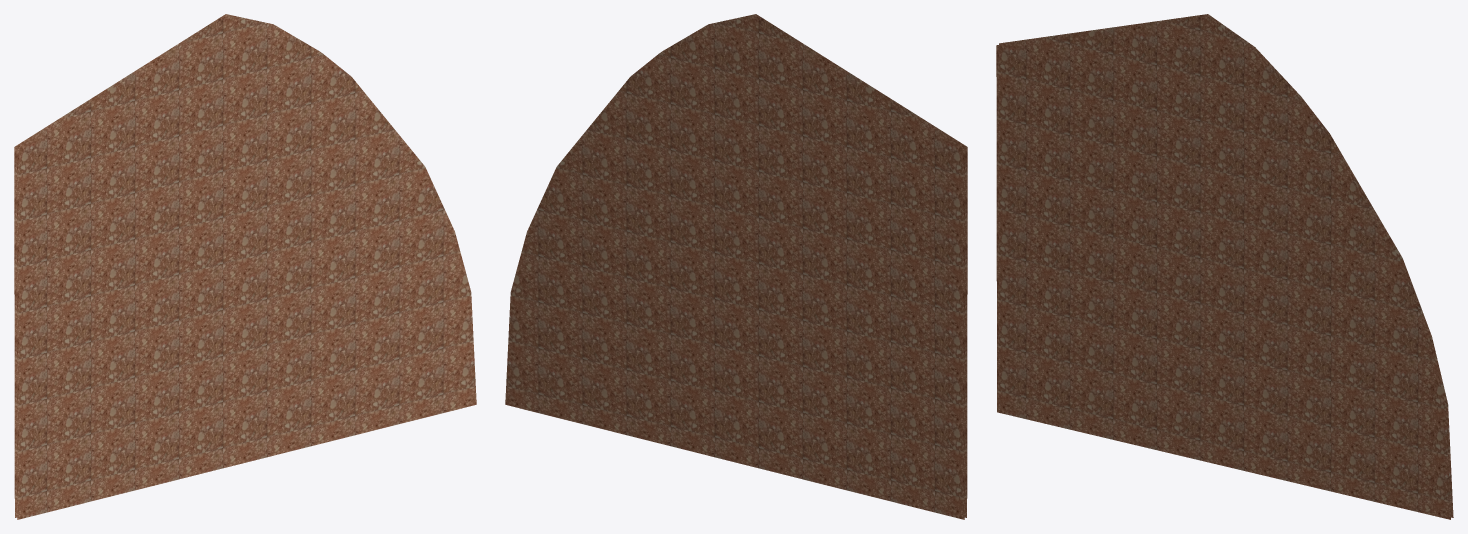
File: floor_1.obj
3 views of the same model, side by side, from view 1: azimuth 30°, elevation 25°; view 2: azimuth 150°, elevation 25°; view 3: azimuth 330°, elevation 25° (orthographic).
Visible parts, largest first — view 1: floor_1; view 2: floor_1; view 3: floor_1.
Boxes of the visible parts, x1,y1,x2,y2 form: floor_1: (14, 14, 476, 519); floor_1: (505, 14, 967, 519); floor_1: (996, 14, 1453, 519).
Size of the model in its own units: 10.44 by 9.82 by 0.1.
